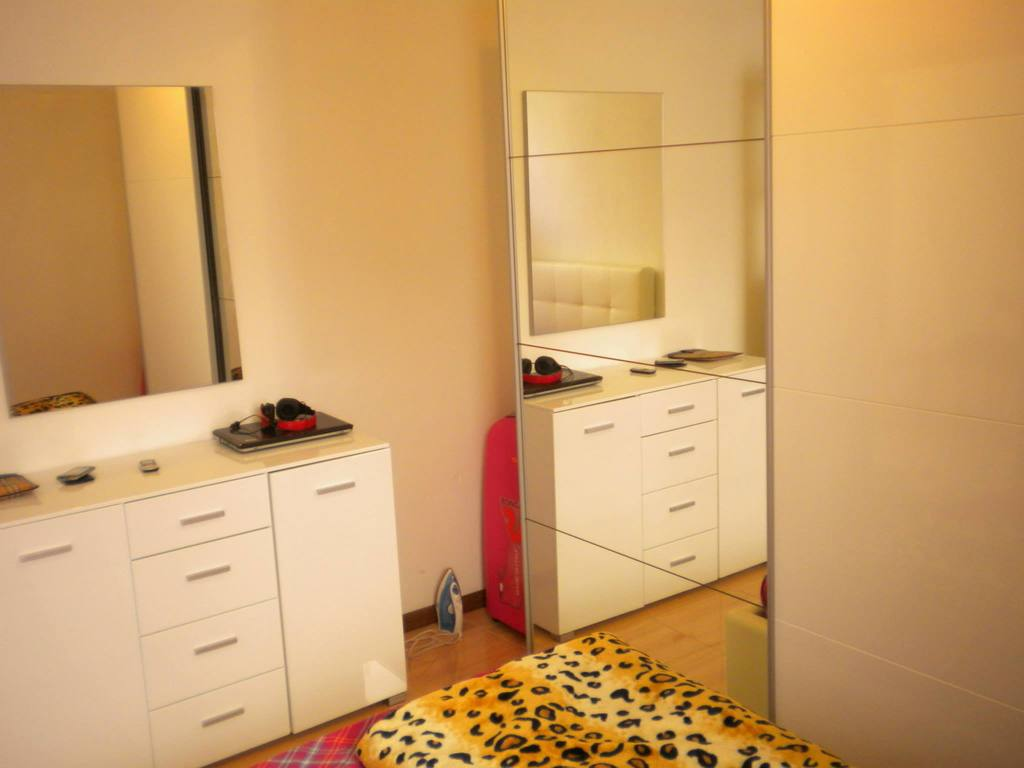Cabinetry: (25, 360, 394, 721)
